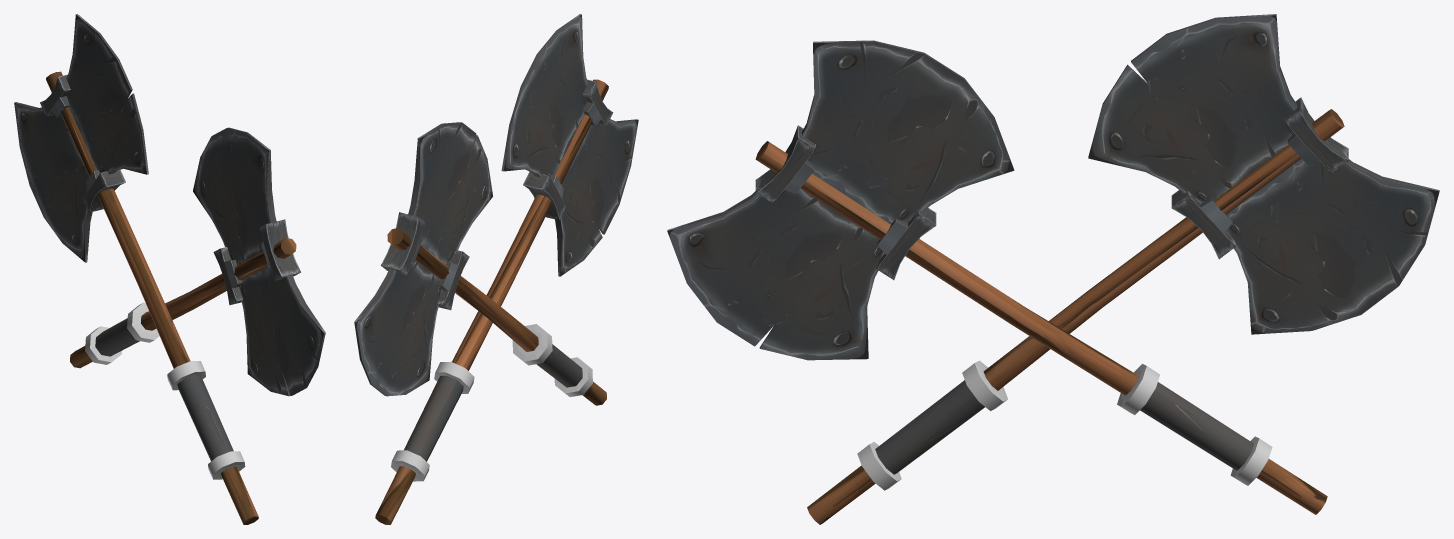
File: Wall_Axes.fbx
3 views of the same model, side by side, from view 1: azimuth 30°, elevation 25°; view 2: azimuth 150°, elevation 25°; view 3: azimuth 270°, elevation 25° (orthographic). The views are drawn at different scales.
Parts seen in each view (by area): view 1: 1_WallAxes; view 2: 1_WallAxes; view 3: 1_WallAxes.
Boxes of the visible parts, bbox=[...] form: 1_WallAxes: bbox=[14, 14, 325, 524]; 1_WallAxes: bbox=[354, 14, 638, 524]; 1_WallAxes: bbox=[667, 14, 1439, 524].
Bounding box in the file's own units: 13.44 × 94.98 × 131.
